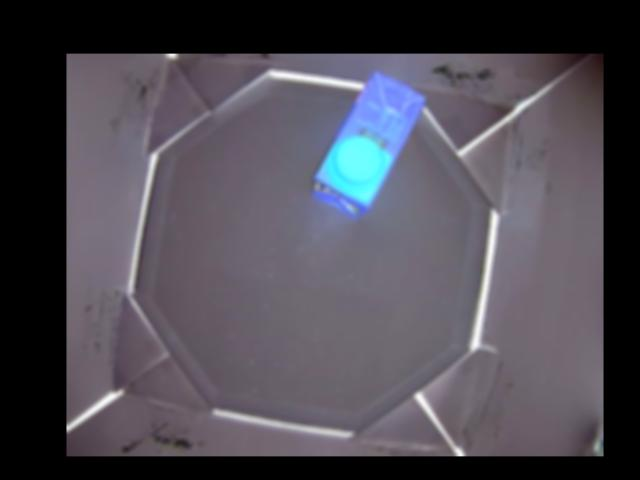Bottle: (309, 70, 426, 217)
